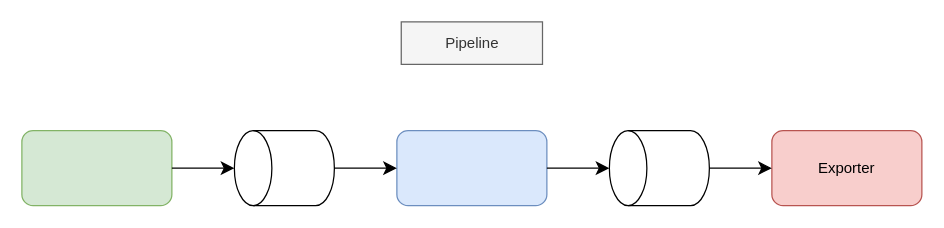
The diagram is 944 pixels wide and 228 high, and some of its shapes have lost their labels. Each missing label, with the centre of its shape:
"Processor" belongs at (471,167).
"Producer" belongs at (96,167).
